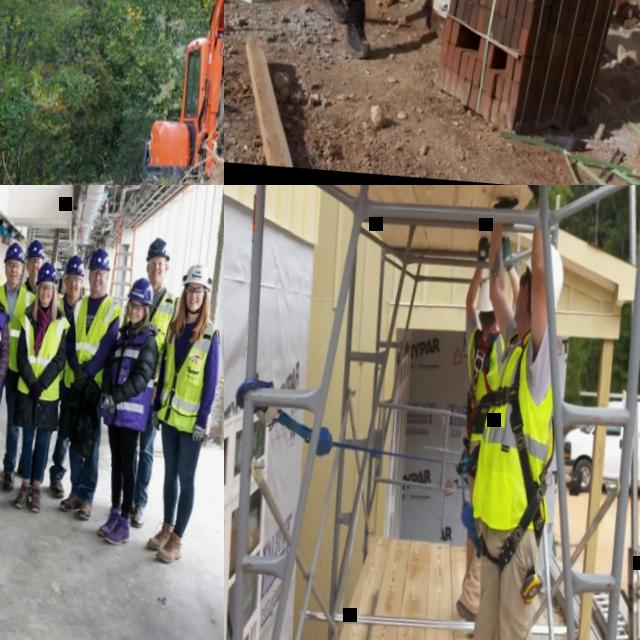Hardhat: (520, 241, 566, 314), (31, 259, 60, 313), (180, 262, 215, 296), (125, 276, 155, 308), (475, 277, 498, 314), (144, 237, 171, 263), (60, 254, 85, 278), (86, 248, 111, 271), (34, 261, 58, 284), (3, 242, 25, 265), (24, 239, 45, 260)
NO-Mask: (511, 279, 530, 324), (146, 268, 165, 285), (184, 296, 202, 312), (87, 281, 105, 295), (4, 273, 20, 287), (37, 294, 51, 308), (66, 286, 79, 300), (127, 312, 139, 323), (27, 269, 38, 279)
Person: (444, 185, 578, 640), (436, 232, 527, 628), (138, 259, 224, 568), (104, 236, 188, 530), (84, 273, 166, 546), (48, 246, 127, 524), (1, 258, 75, 515), (24, 253, 91, 499), (4, 238, 59, 479), (0, 240, 42, 492), (0, 254, 17, 509)
Safety Vest: (466, 326, 561, 533), (153, 314, 222, 438), (117, 282, 181, 388), (61, 291, 124, 392), (102, 324, 157, 435), (12, 302, 72, 402), (459, 322, 508, 443), (48, 289, 84, 382), (0, 281, 35, 374), (17, 280, 36, 307)
vehicle: (140, 0, 224, 185), (556, 386, 640, 508)
